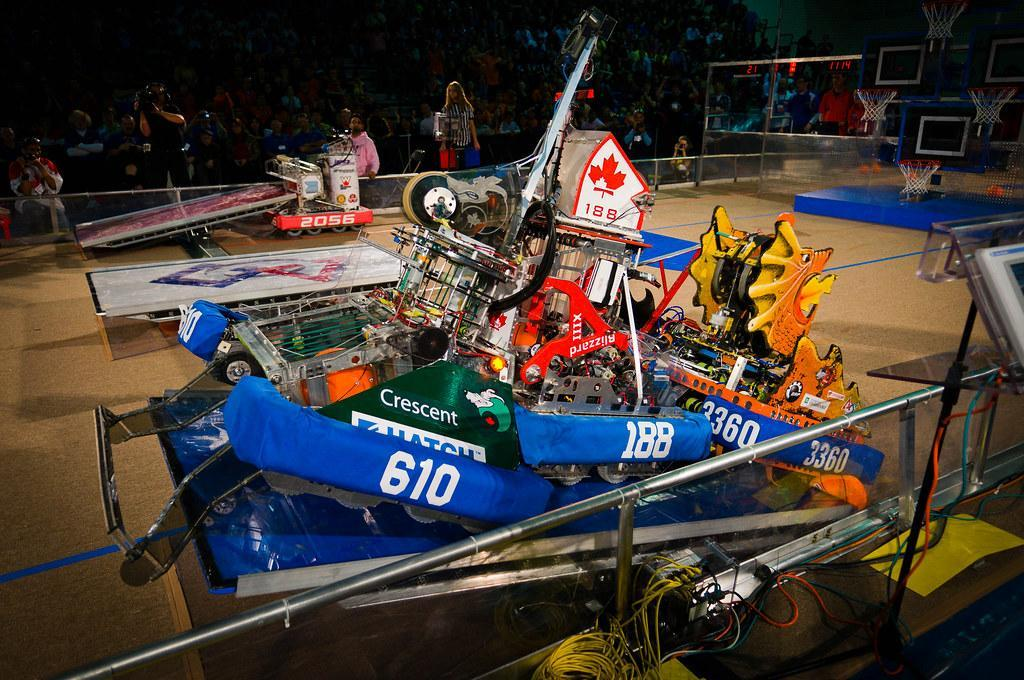robot: (90, 0, 616, 596), (433, 94, 717, 500), (662, 204, 897, 512), (267, 129, 379, 243)
